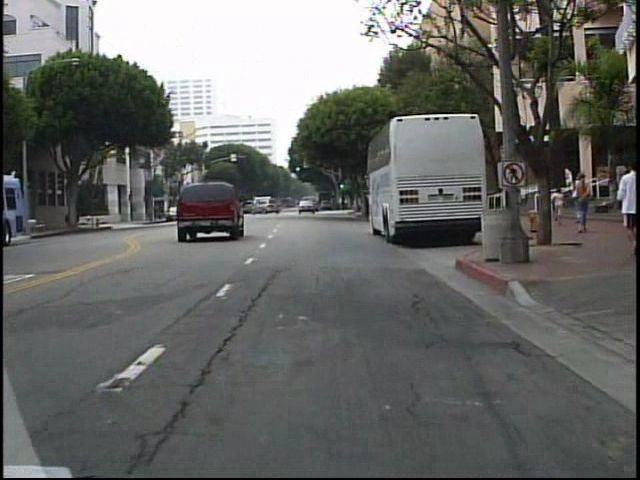person: (570, 169, 596, 237)
